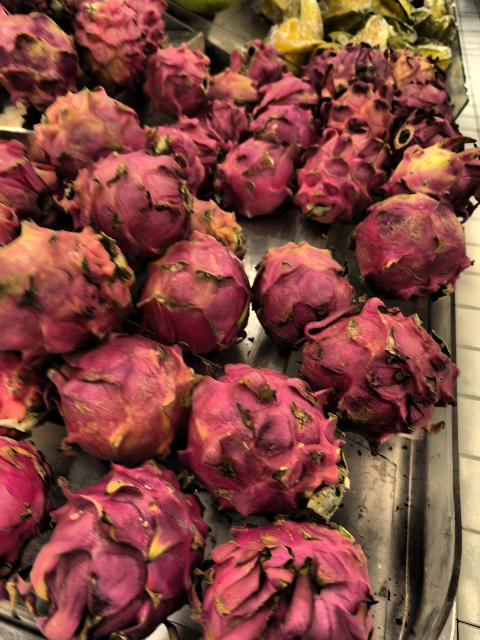buah-naga-belum-matang: (0, 224, 132, 340), (360, 198, 478, 304), (65, 2, 159, 80), (33, 90, 138, 158), (0, 12, 80, 96), (1, 138, 56, 235), (396, 146, 480, 204), (320, 81, 390, 139), (210, 68, 262, 110), (257, 81, 315, 111)
buah-naga-matang: (174, 358, 342, 518), (46, 460, 194, 640), (198, 514, 374, 640), (298, 303, 456, 439), (56, 333, 184, 455), (63, 157, 207, 251), (144, 233, 260, 339), (248, 242, 342, 331), (0, 434, 56, 574), (296, 135, 372, 225), (220, 137, 302, 216), (170, 113, 228, 183), (145, 50, 209, 110), (390, 112, 466, 158), (248, 107, 324, 153), (392, 82, 452, 118), (195, 100, 245, 142)
